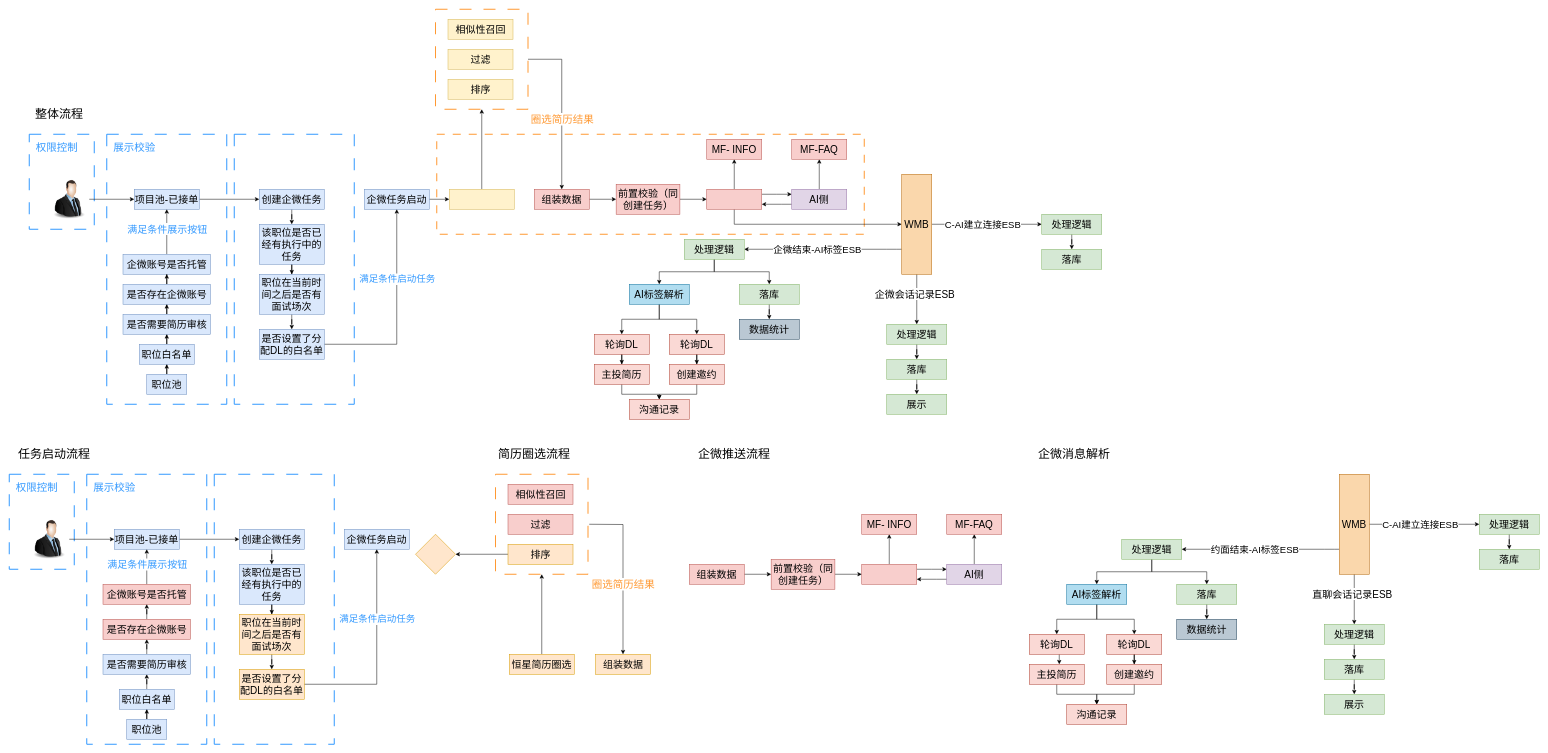
Image size: 1548x753. Some labels were removed from this diagram. The shapes that lost their labels are listed below. From the top down, each one's box as (x1, y1, x2, y2) in pixels, then its label:
(449, 189, 514, 209): 企微简历圈选
(706, 189, 762, 209): 推送企微
(861, 564, 917, 584): 推送直聊
